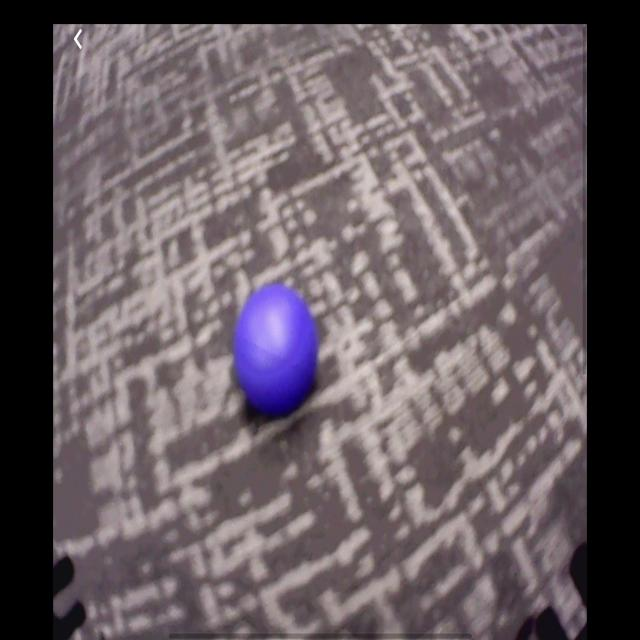ball: (235, 280, 318, 418)
